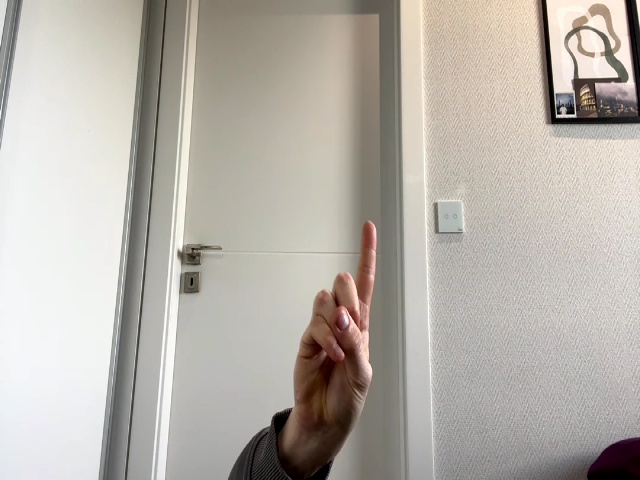Z: (294, 221, 377, 425)
